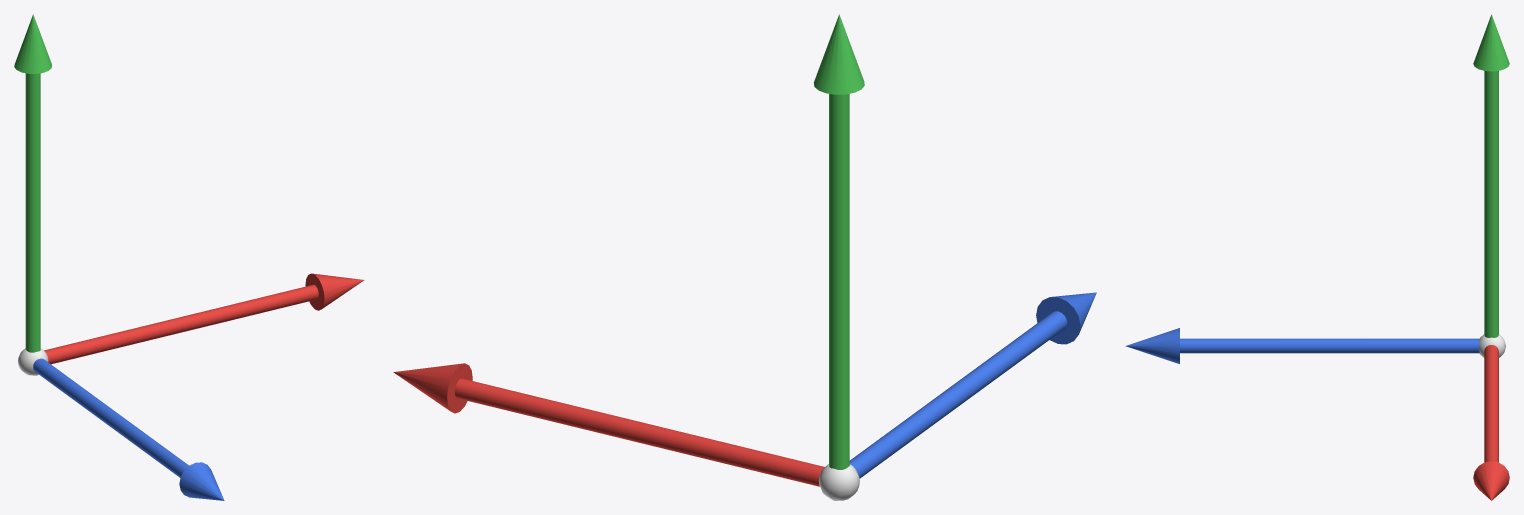
3 views of the same model, side by side, from view 1: azimuth 30°, elevation 25°; view 2: azimuth 150°, elevation 25°; view 3: azimuth 270°, elevation 25° (orthographic). The views are drawn at different scales.
Parts seen in each view (by area): view 1: y, x, z, origin; view 2: y, x, z, origin; view 3: z, y, x.
Part boxes in pixels (bbox=[...]): y: bbox=[14, 14, 51, 352]; x: bbox=[44, 273, 364, 364]; z: bbox=[33, 358, 224, 500]; origin: bbox=[18, 348, 48, 375]; y: bbox=[813, 14, 864, 469]; x: bbox=[393, 363, 824, 486]; z: bbox=[849, 292, 1096, 478]; origin: bbox=[818, 464, 859, 500]; z: bbox=[1125, 328, 1479, 364]; y: bbox=[1473, 14, 1509, 337]; x: bbox=[1473, 345, 1509, 500].
Size of the model in its own units: 1.05 by 1.05 by 1.05.
